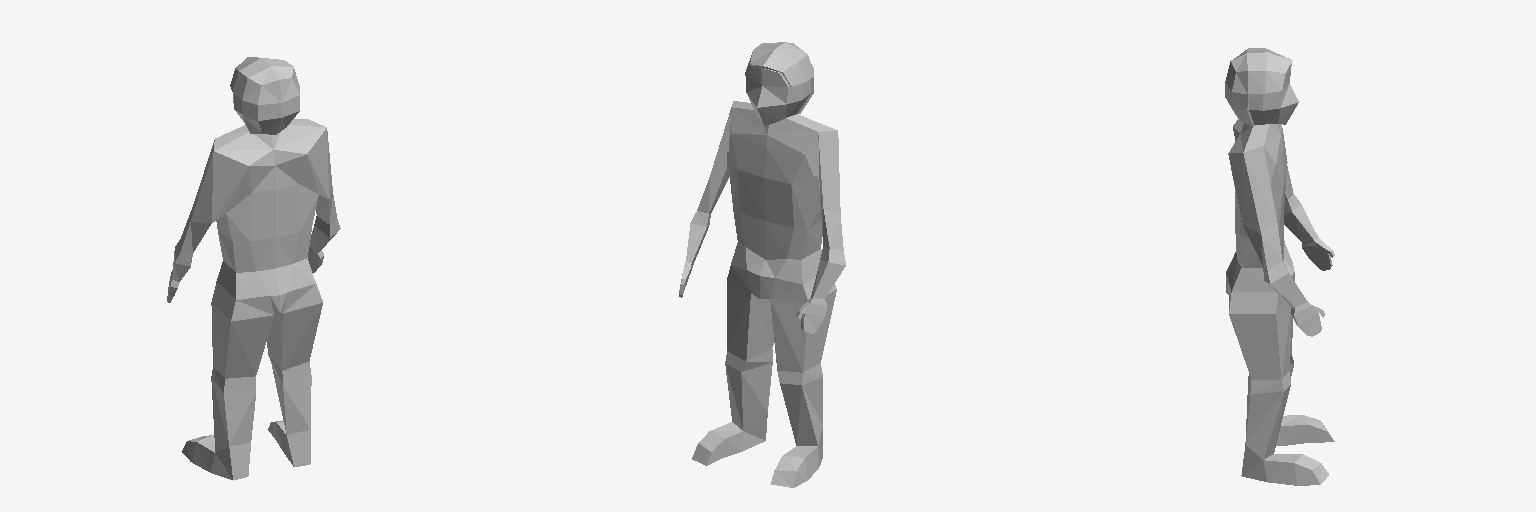
Rendered from char.obj.
3 views of the same model, side by side, from view 1: azimuth 30°, elevation 25°; view 2: azimuth 150°, elevation 25°; view 3: azimuth 270°, elevation 25° (orthographic).
Visible parts, largest first — view 1: body_Cube.006, hair_Cube.005; view 2: body_Cube.006, hair_Cube.005; view 3: body_Cube.006, hair_Cube.005.
Boxes of the visible parts, box(x1,y1,x2,y2) form: body_Cube.006: box(167, 93, 340, 480); hair_Cube.005: box(230, 57, 299, 134); body_Cube.006: box(679, 66, 845, 487); hair_Cube.005: box(745, 42, 813, 113); body_Cube.006: box(1226, 63, 1334, 485); hair_Cube.005: box(1225, 48, 1292, 126).
Bounding box in the file's own units: 0.882 × 2.14 × 0.5279.